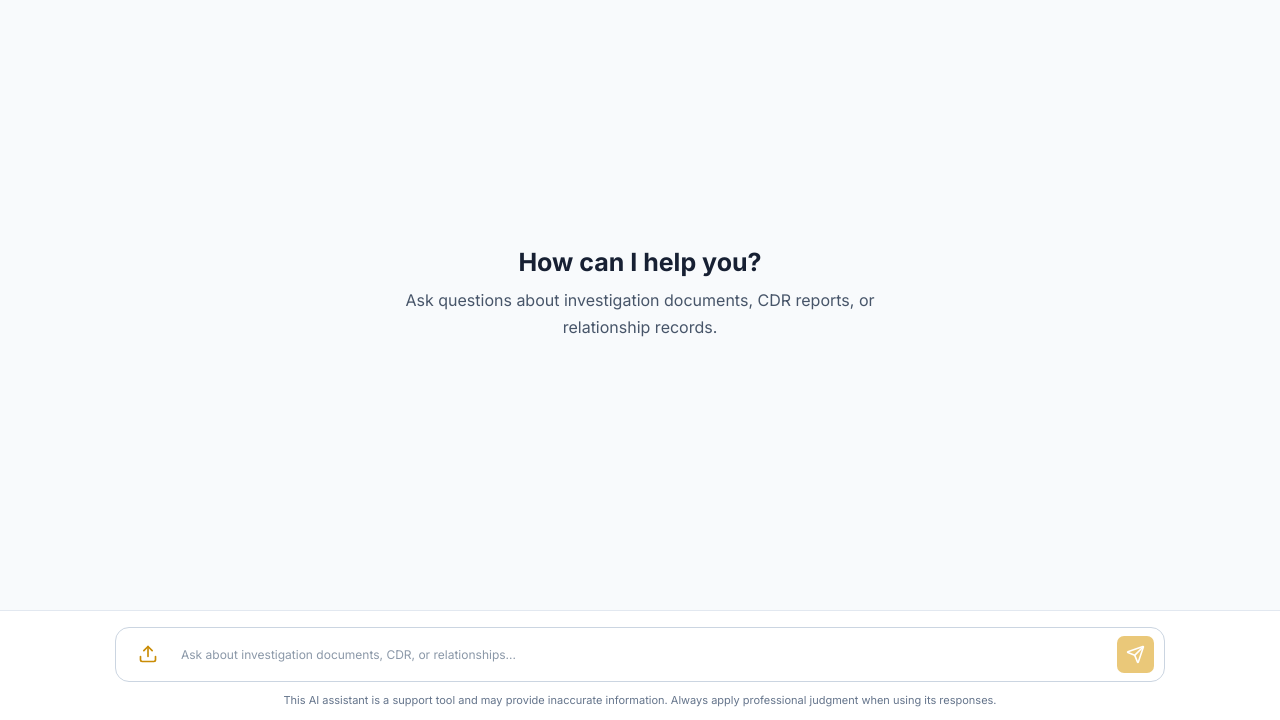
chat submissions › prevents repeated submissions while an answer is pending
Type "Summarize the case" into the field named "Ask the ACC assistant" at (640, 654), box [174, 636, 1107, 672]
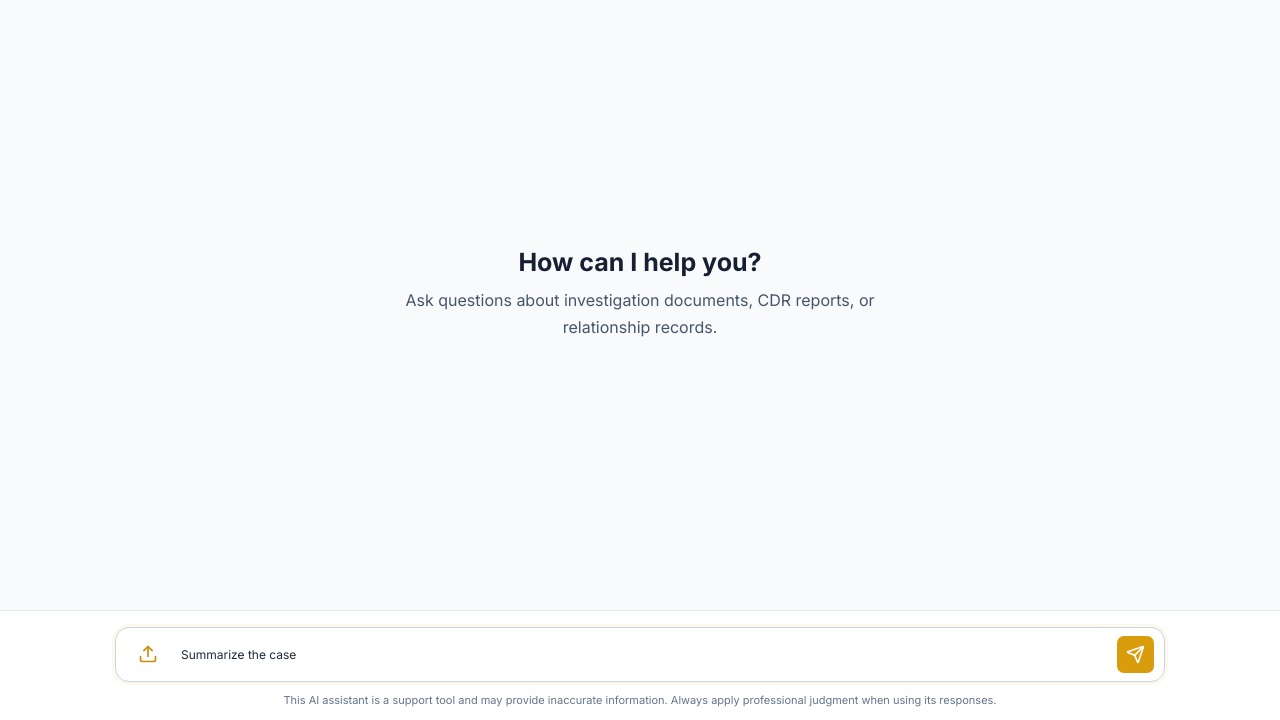
Double-click the button named "Send message" at (1136, 654), box [1117, 636, 1154, 672]
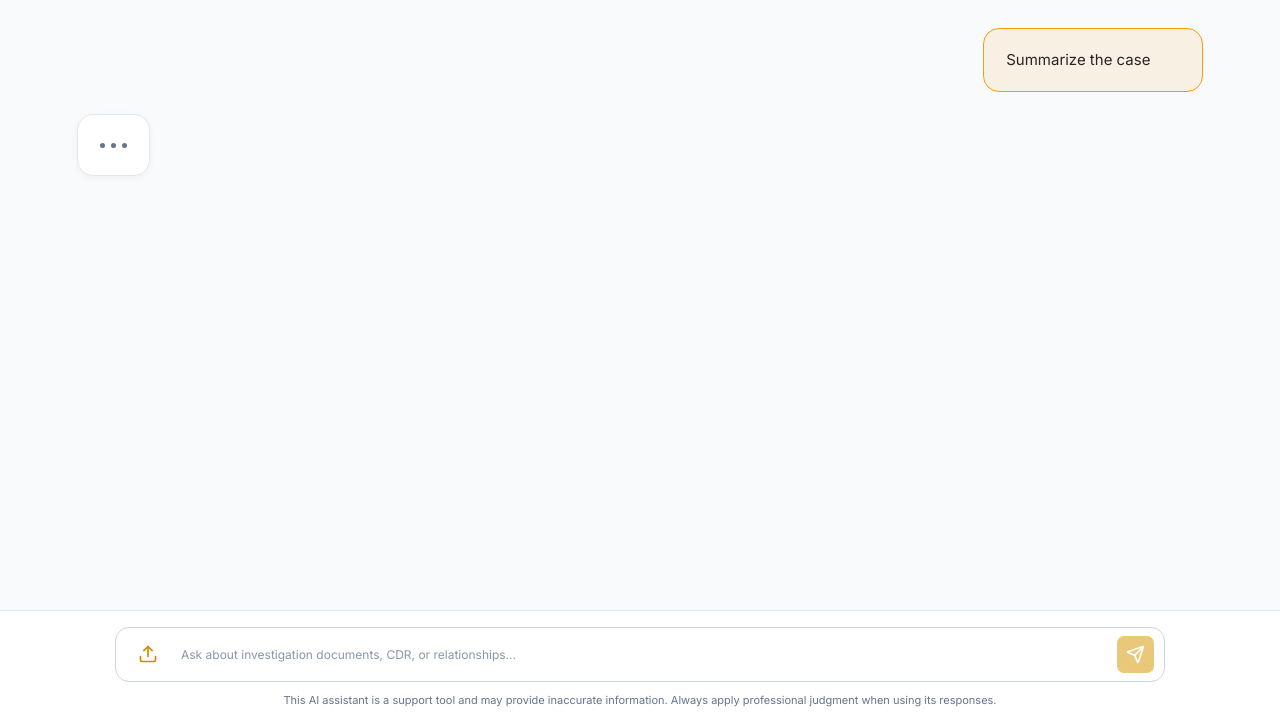
Check: the button named "Send message" is disabled, box [1117, 636, 1154, 672]
